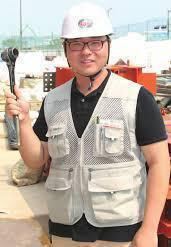helmet: (58, 4, 115, 38)
